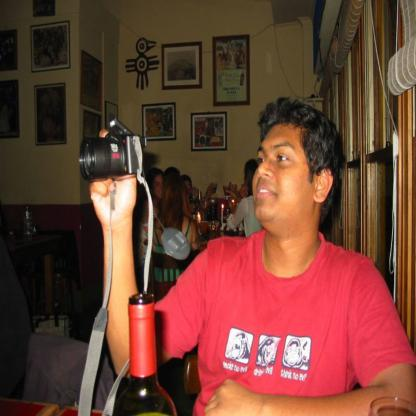Camera: (79, 115, 144, 182)
